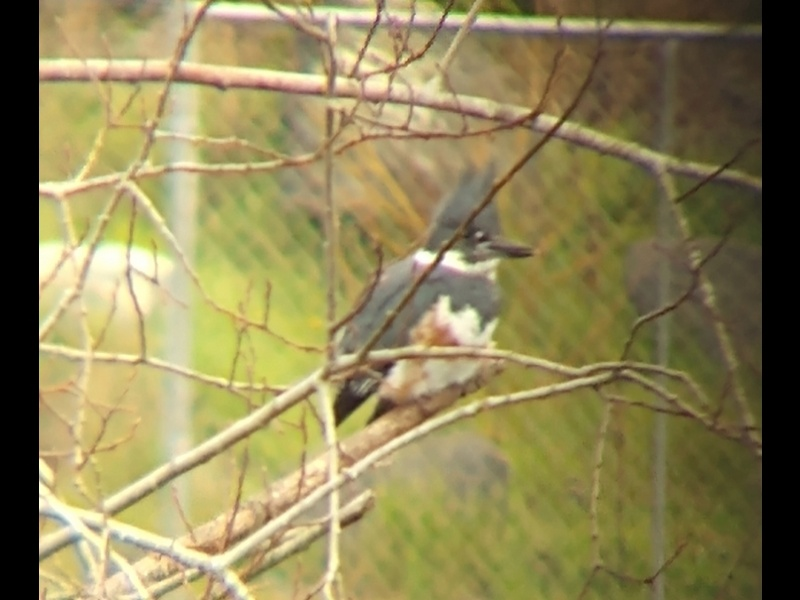kingfisher: (326, 160, 541, 435)
